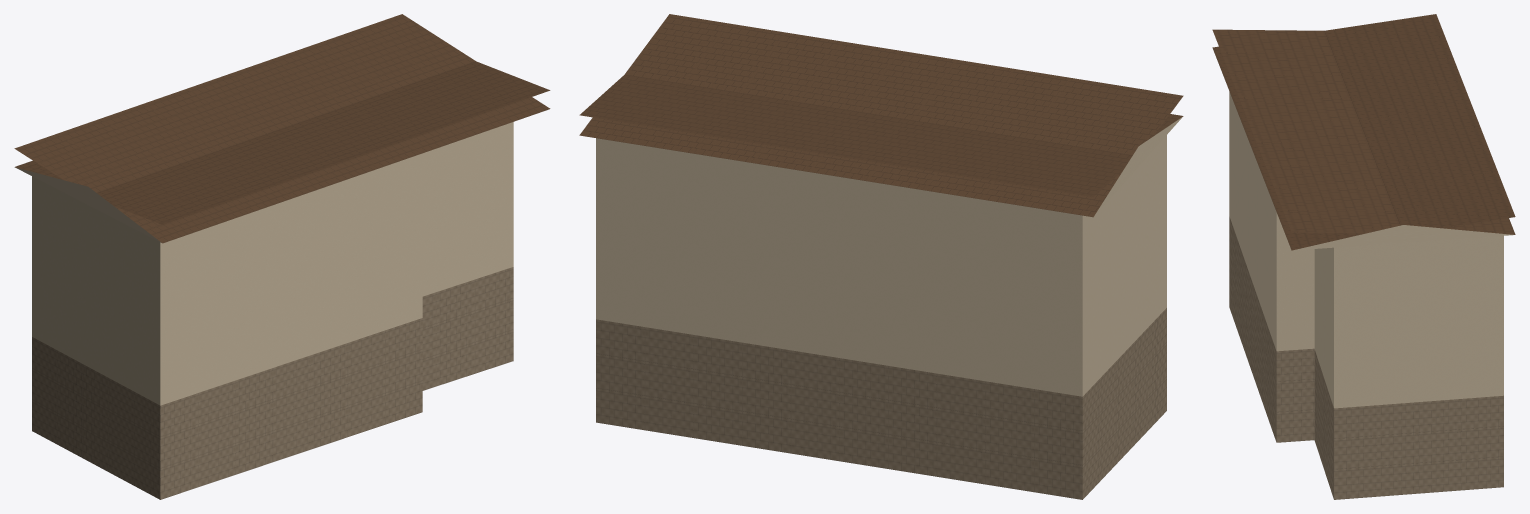
The model's file is bld_c33_34_340.gltf.
3 renders of one model, left to right at view 1: azimuth 30°, elevation 25°; view 2: azimuth 150°, elevation 25°; view 3: azimuth 270°, elevation 25°, orthographic. The views are drawn at different scales.
Visible parts, largest first — view 1: bld_c33_34_340; view 2: bld_c33_34_340; view 3: bld_c33_34_340.
Boxes of the visible parts, <box> form: bld_c33_34_340: <box>14,14,550,499</box>; bld_c33_34_340: <box>579,14,1183,499</box>; bld_c33_34_340: <box>1212,14,1515,499</box>.
Bounding box in the file's own units: 26.14 × 15.3 × 15.32.
4 materials, 4 textured.
